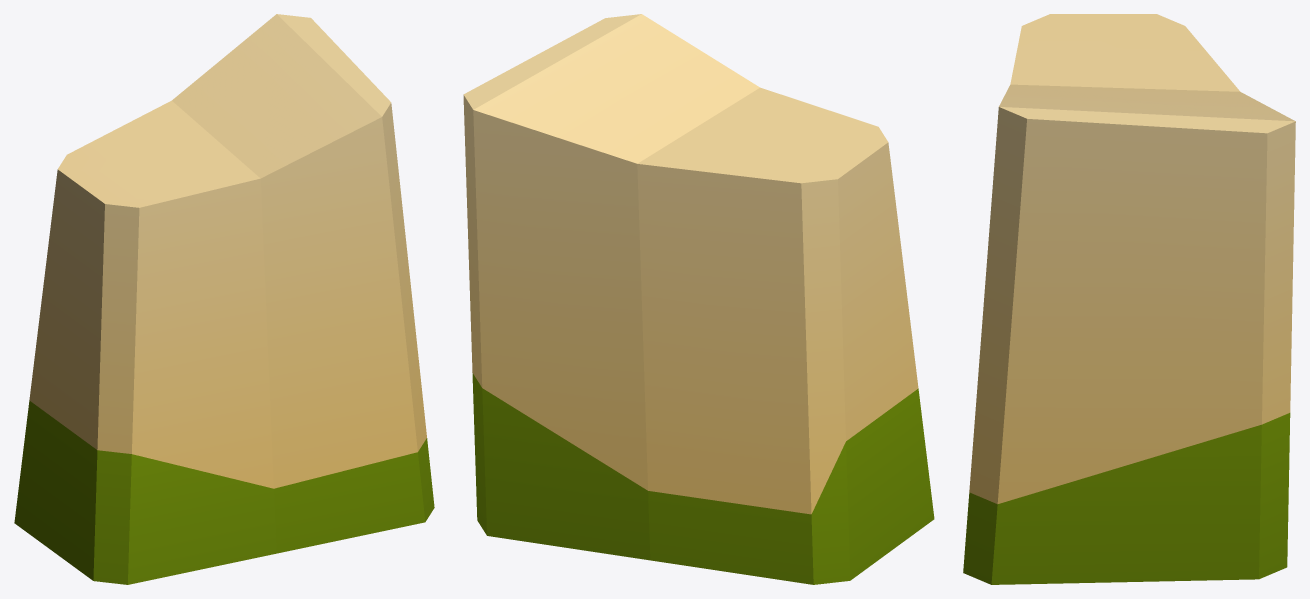
The model's file is Rock_06.fbx.
3 views of the same model, side by side, from view 1: azimuth 30°, elevation 25°; view 2: azimuth 150°, elevation 25°; view 3: azimuth 270°, elevation 25° (orthographic). The views are drawn at different scales.
Visible parts, largest first — view 1: Rock_06; view 2: Rock_06; view 3: Rock_06.
Part boxes in pixels (x1,y1,x2,y2): Rock_06: (14, 14, 434, 584); Rock_06: (463, 14, 934, 584); Rock_06: (963, 14, 1295, 584).
Size of the model in its own units: 527 by 609 by 407.
